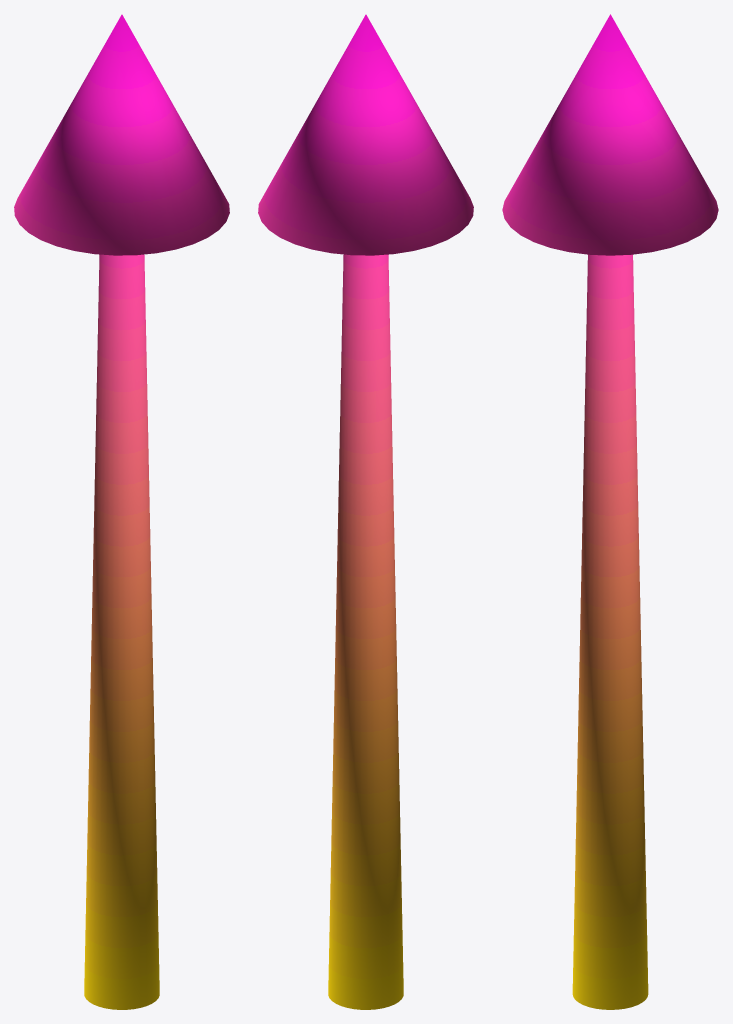
The model's file is arrow.obj.
3 views of the same model, side by side, from view 1: azimuth 30°, elevation 25°; view 2: azimuth 150°, elevation 25°; view 3: azimuth 270°, elevation 25° (orthographic).
Parts seen in each view (by area): view 1: Cone; view 2: Cone; view 3: Cone.
Boxes of the visible parts, bbox=[...] form: Cone: bbox=[14, 14, 229, 1009]; Cone: bbox=[258, 14, 473, 1009]; Cone: bbox=[502, 14, 718, 1009].
Bounding box in the file's own units: 10 × 50 × 10.
1 material, 1 textured.
